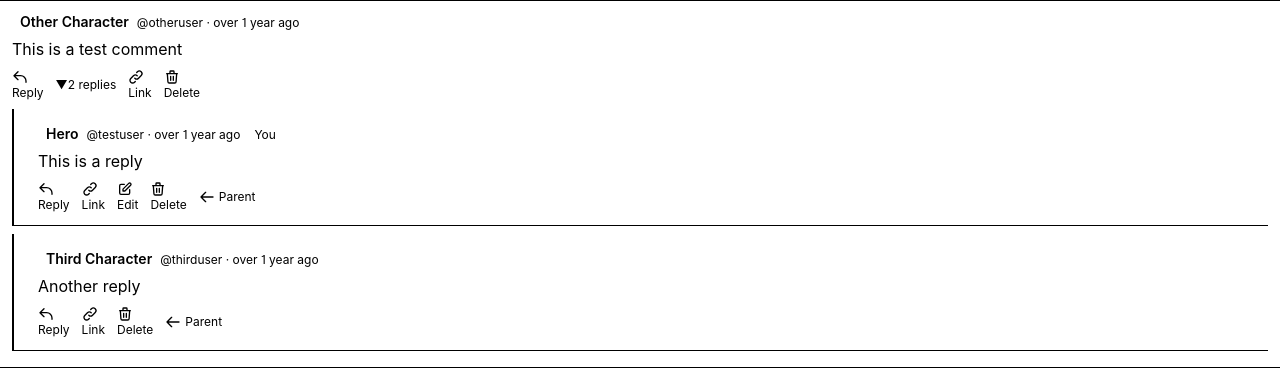
Test: ThreadedComment › Nested Replies › does not show nested replies when showReplies is false
Click the button "▼2 replies": [86, 85] box [56,77,116,93]
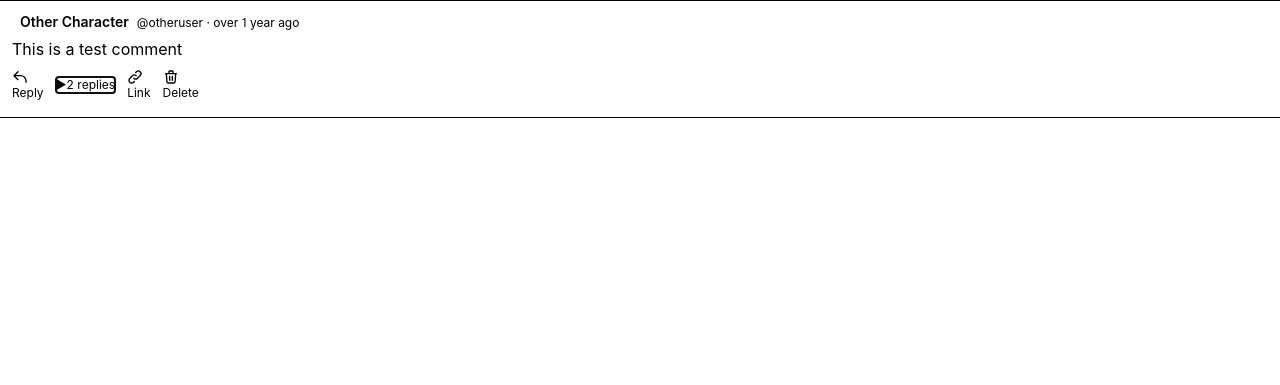
expect the text "This is a reply" is gone: met
